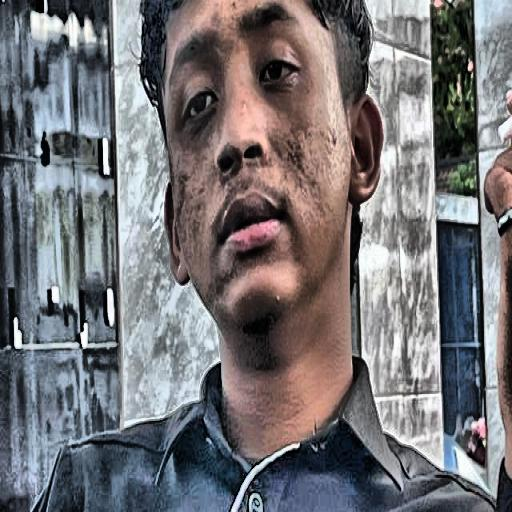Asbak: (499, 119, 512, 139)
Merokok: (33, 0, 512, 512)
